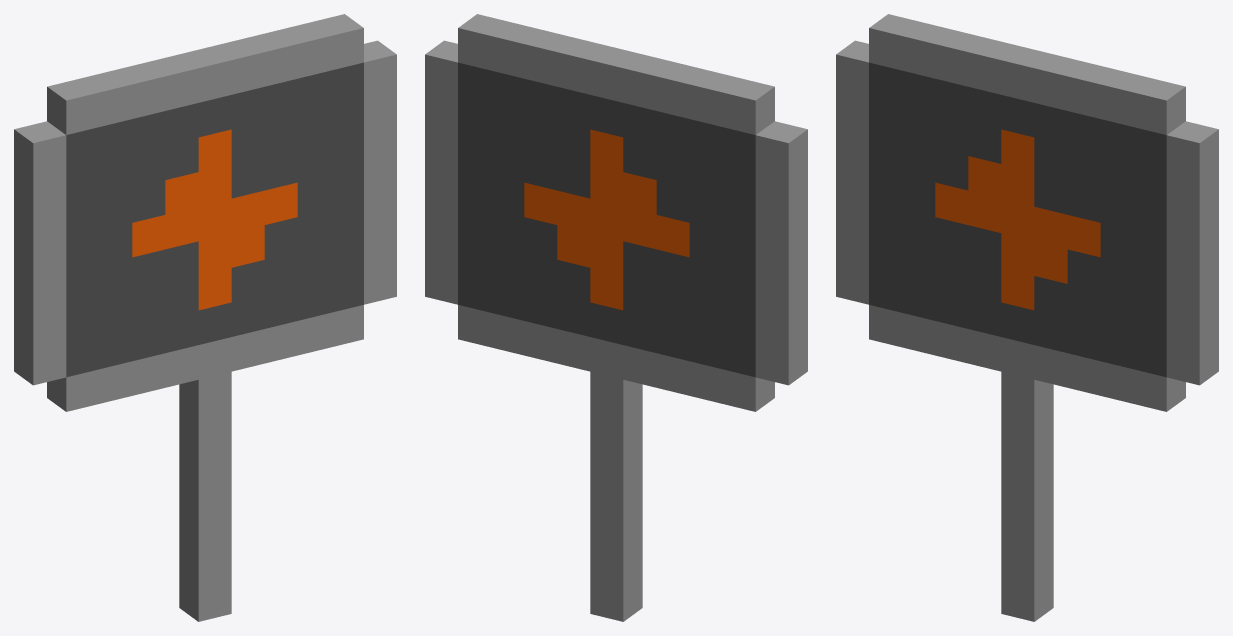
3 views of the same model, side by side, from view 1: azimuth 30°, elevation 25°; view 2: azimuth 150°, elevation 25°; view 3: azimuth 330°, elevation 25° (orthographic).
Visible parts, largest first — view 1: 137; view 2: 137; view 3: 137.
Boxes of the visible parts, x1=… form: 137: x1=14, y1=14, x2=396, y2=621; 137: x1=425, y1=14, x2=807, y2=621; 137: x1=836, y1=14, x2=1218, y2=621.
Bounding box in the file's own units: 1.1 × 1.6 × 0.1.
Materials: 1 (1 with a texture image).
